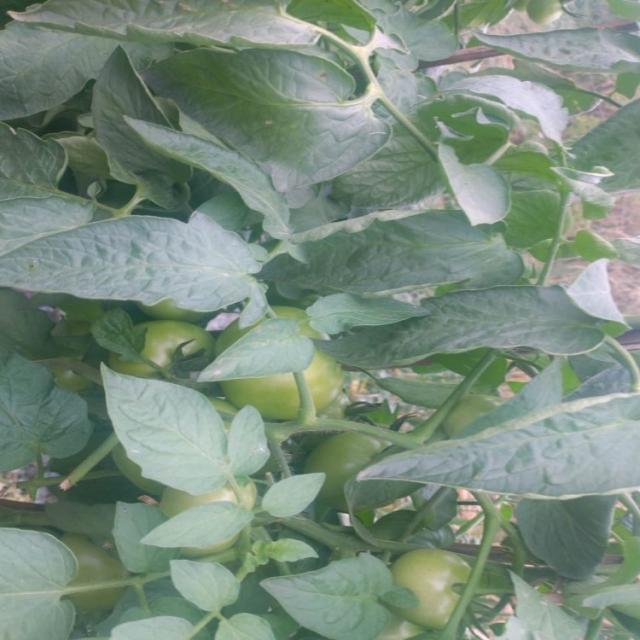tomato: (383, 525, 475, 640), (293, 422, 396, 521), (204, 367, 351, 428), (102, 311, 219, 384)
